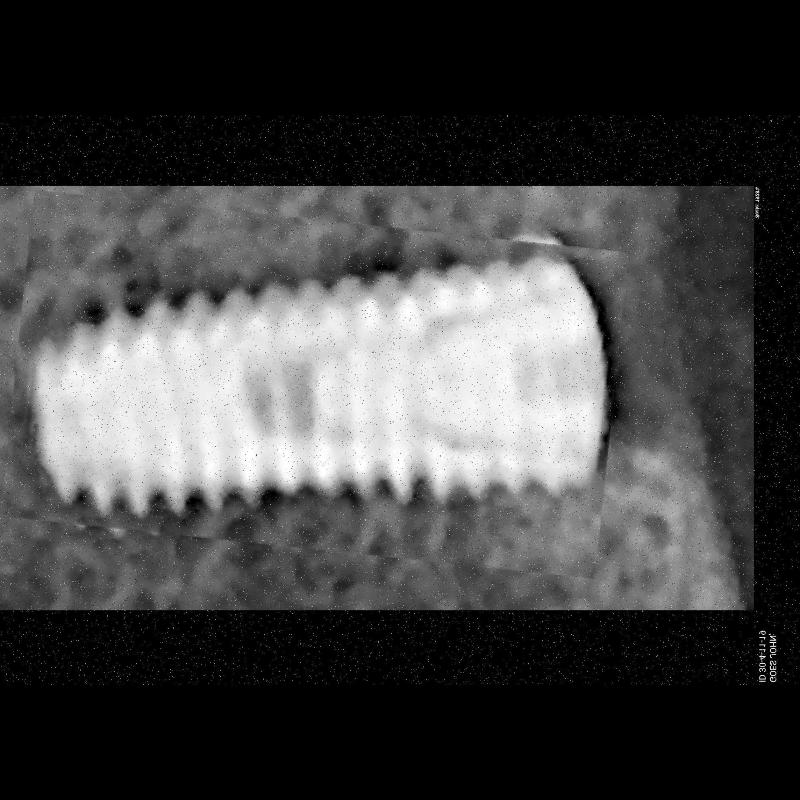osstem: (8, 205, 620, 563)
